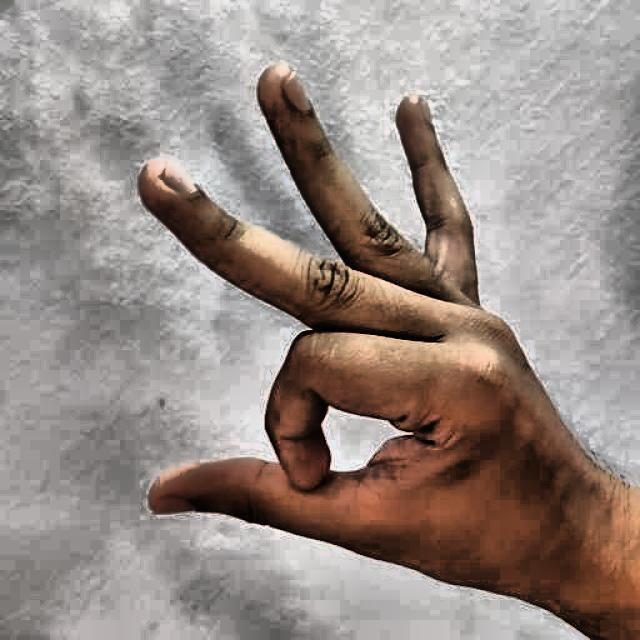Uo: (80, 40, 602, 622)
